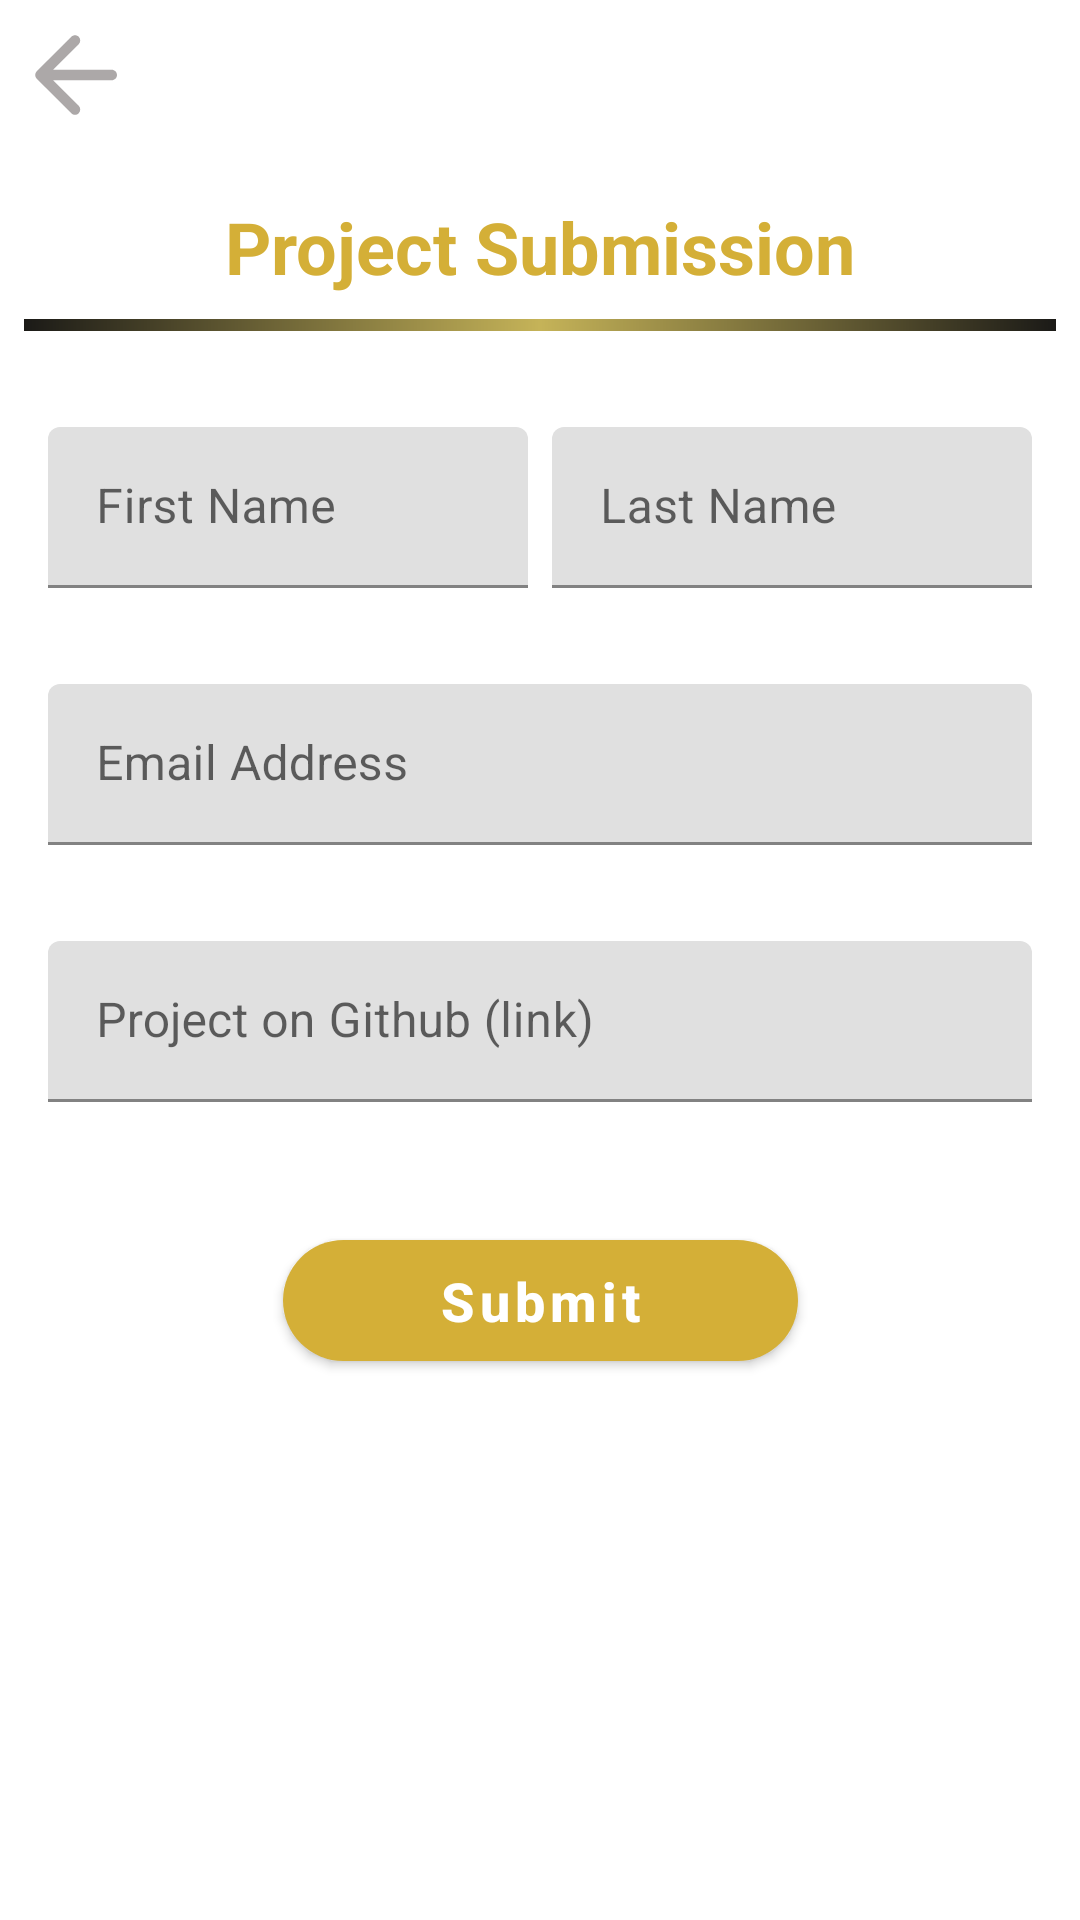

Screen size 1080×1920. Icon name, then its box in pixels as (x1, y1, x2, y2):
Back button: (35, 35, 117, 115)
